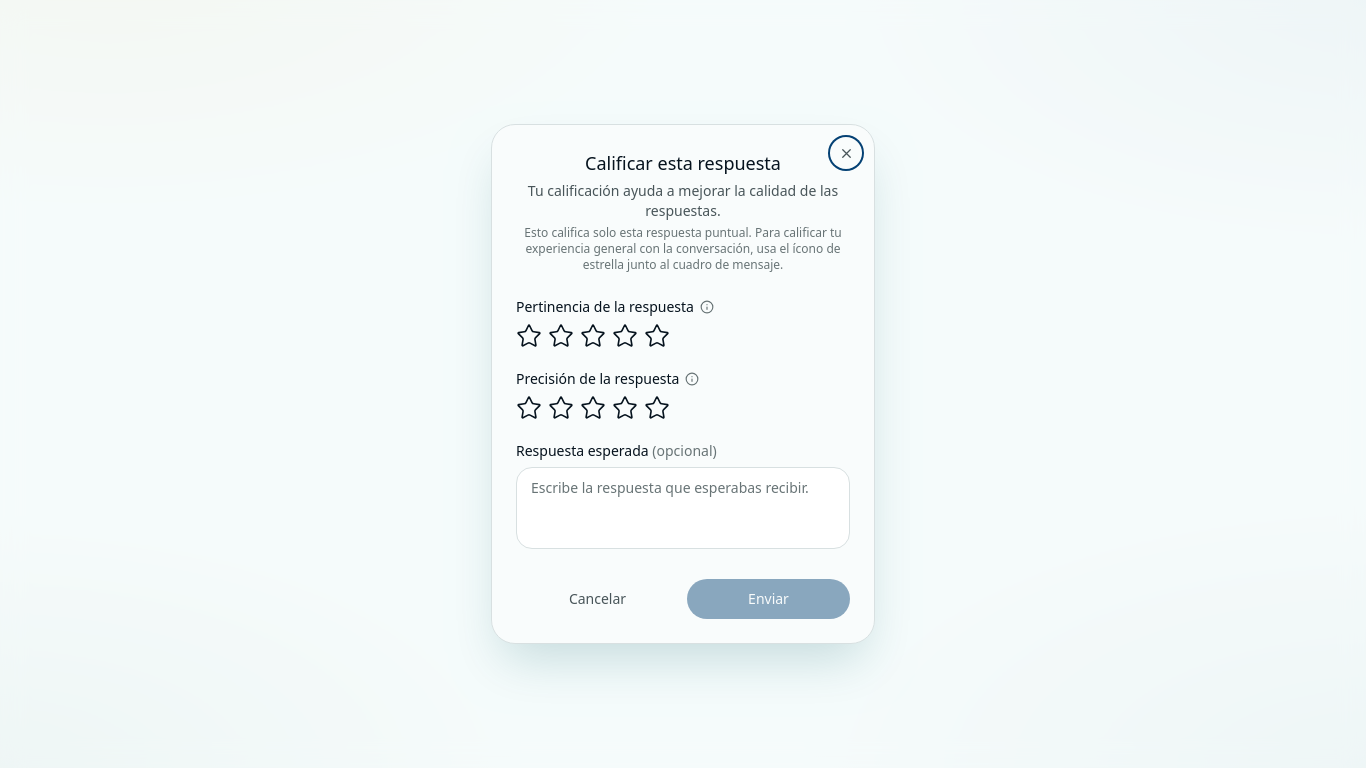
Scenario: MessageRatingPopover — nombre accesible persistente y reflow › el panel tiene nombre accesible no vacío en idle, loading y success
This screenshot has width=1366, height=768.
Click the button named "5 estrellas" below "Pertinencia de la respuesta" at (657, 336), box [644, 323, 670, 349]
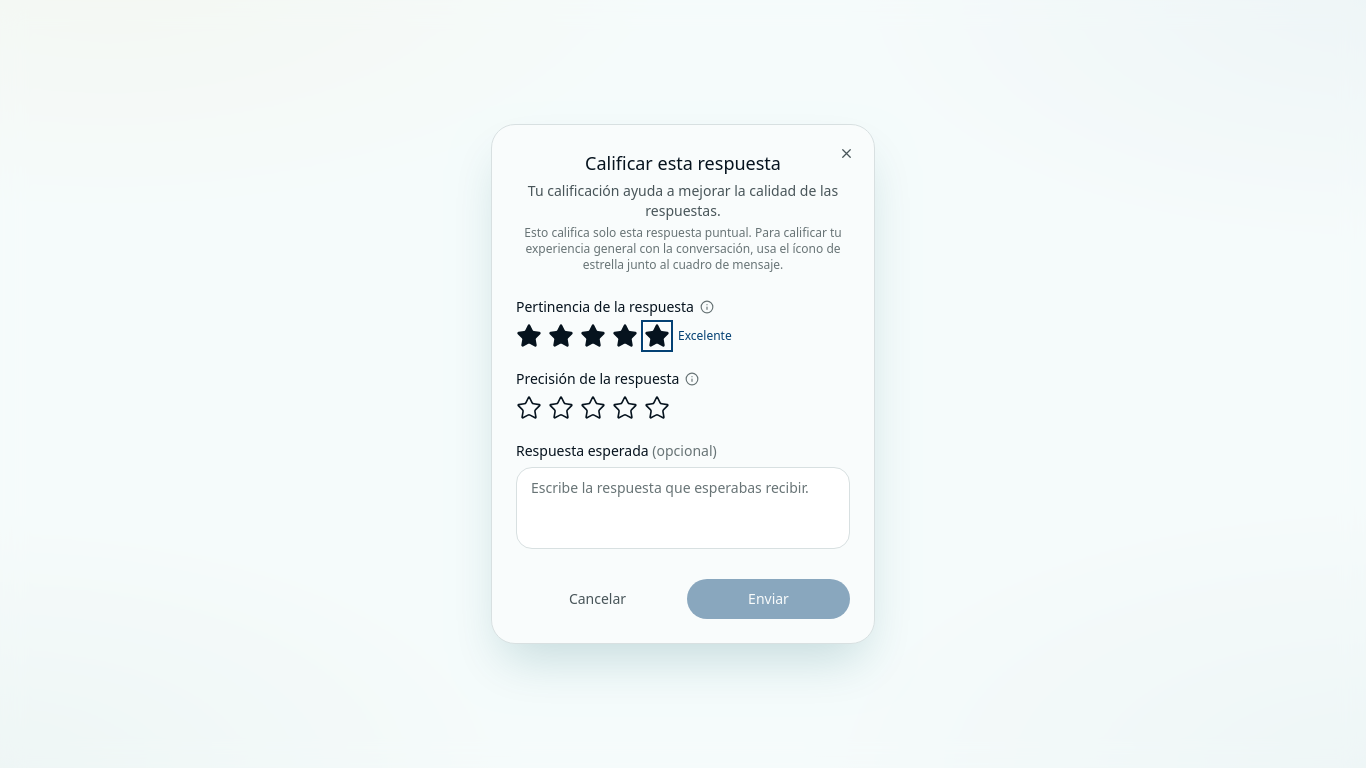
Click the button named "5 estrellas" below "Precisión de la respuesta" at (657, 408), box [644, 395, 670, 421]
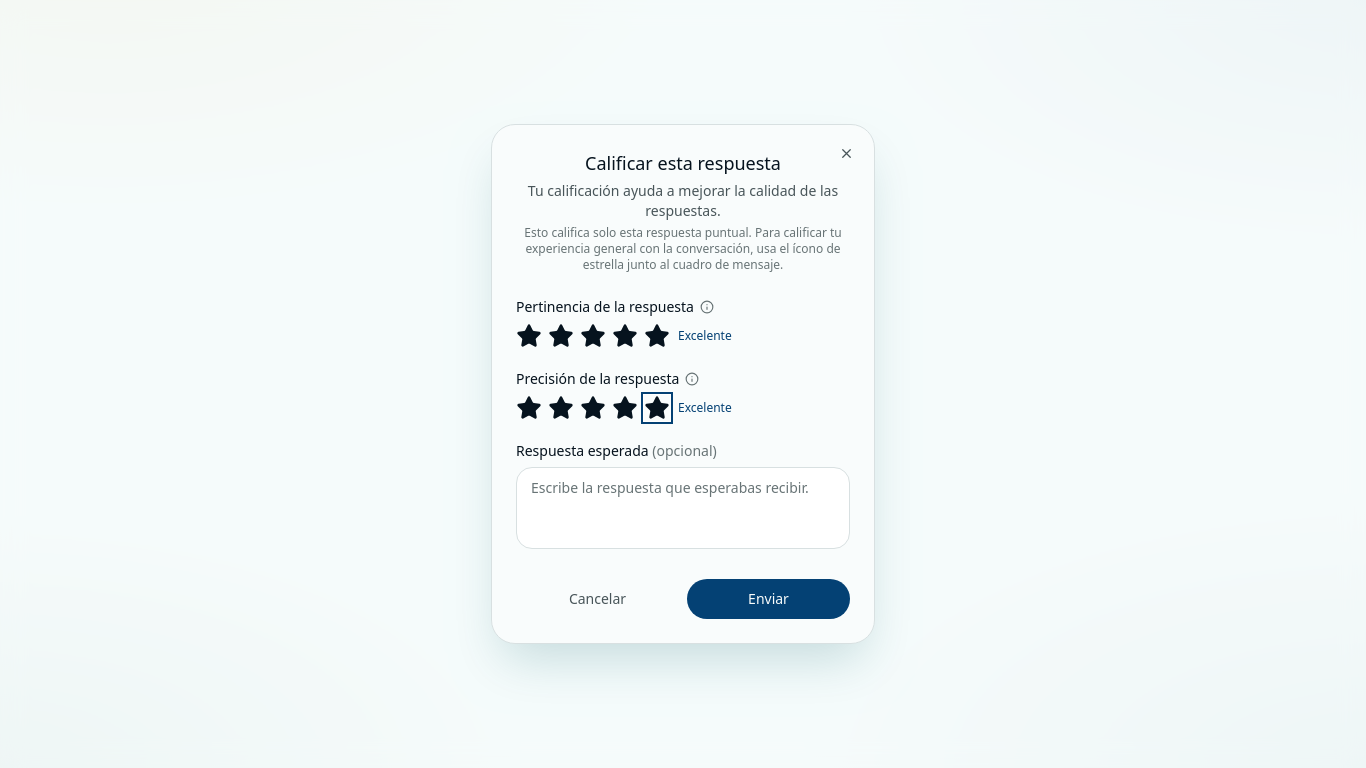
Click the button "Enviar" at (768, 599), box [687, 579, 850, 619]
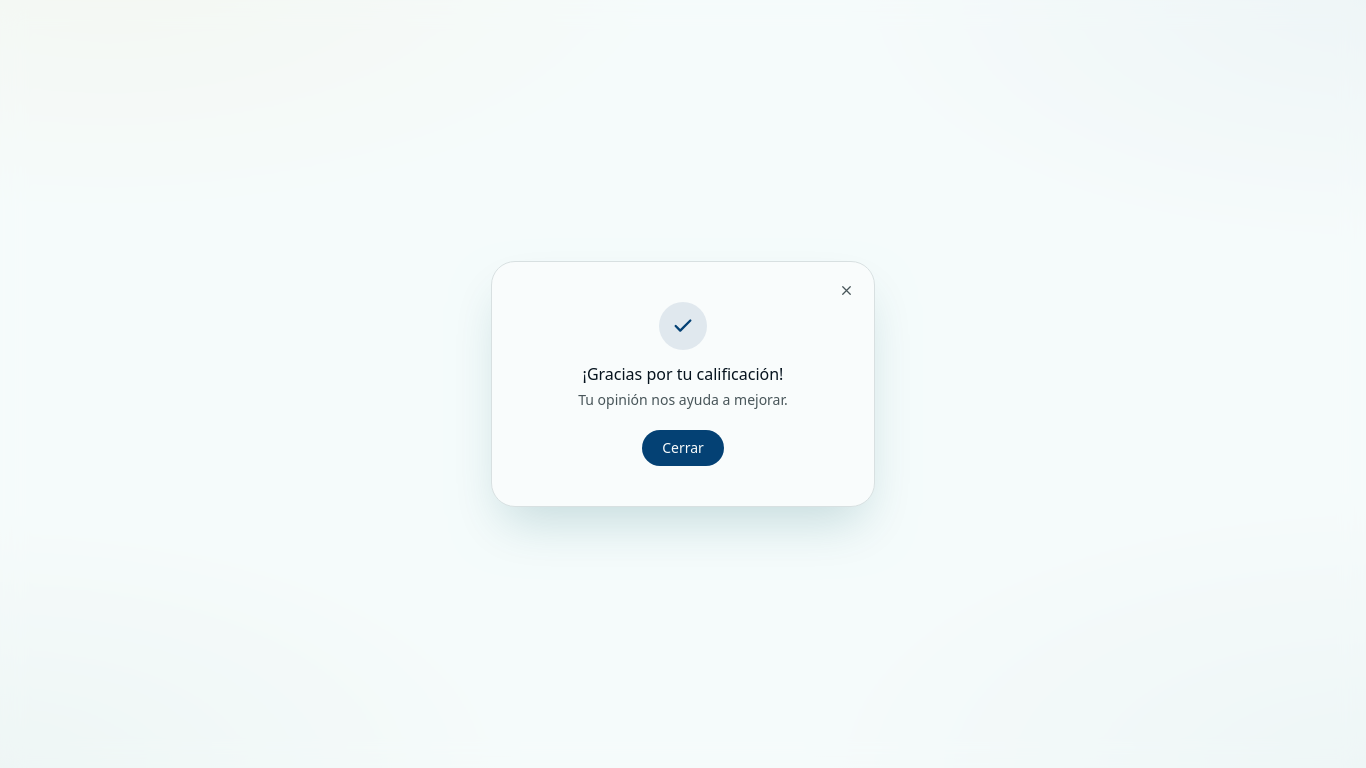
Expected: the text "¡Gracias por tu calificación!" is shown, [578, 362, 788, 386]
